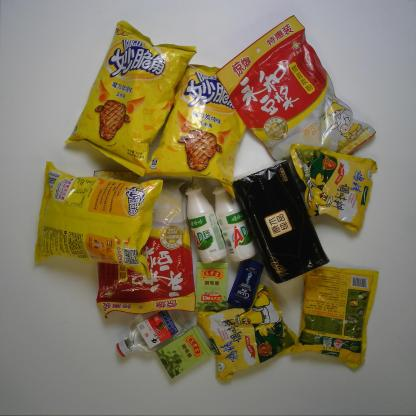Alcohol: (115, 308, 188, 358)
Candy: (155, 325, 214, 380), (194, 261, 230, 313)
Instant Drink: (214, 14, 377, 162), (92, 169, 196, 320)
Milk: (211, 184, 257, 263), (184, 184, 229, 263)
Personal Hygiene: (227, 259, 265, 309)
Puffed Food: (65, 19, 198, 177), (33, 159, 162, 280), (141, 63, 247, 199)
Seasoner: (197, 284, 298, 383), (292, 266, 380, 369), (290, 143, 379, 233)
Tissue: (231, 158, 332, 284)
